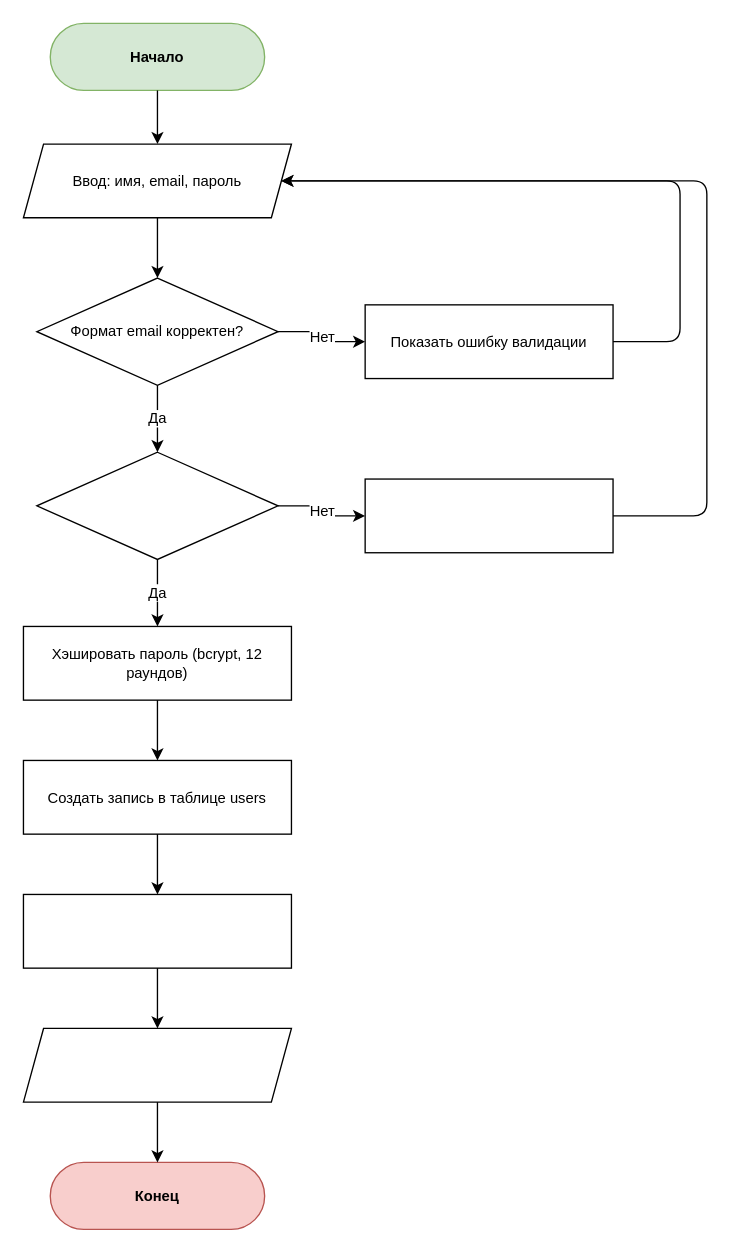
Some shapes in this 741 by 1253 pixel diagram are drawn without their labels. The box of each missing label's shape, as (x1, y1, x2, y2) in pixels:
Email уникален в БД?: (36, 451, 278, 559)
Вернуть токен клиенту: (22, 1027, 291, 1102)
Показать ошибку: email занят: (364, 478, 613, 553)
Сгенерировать Sanctum-токен: (22, 893, 291, 968)
